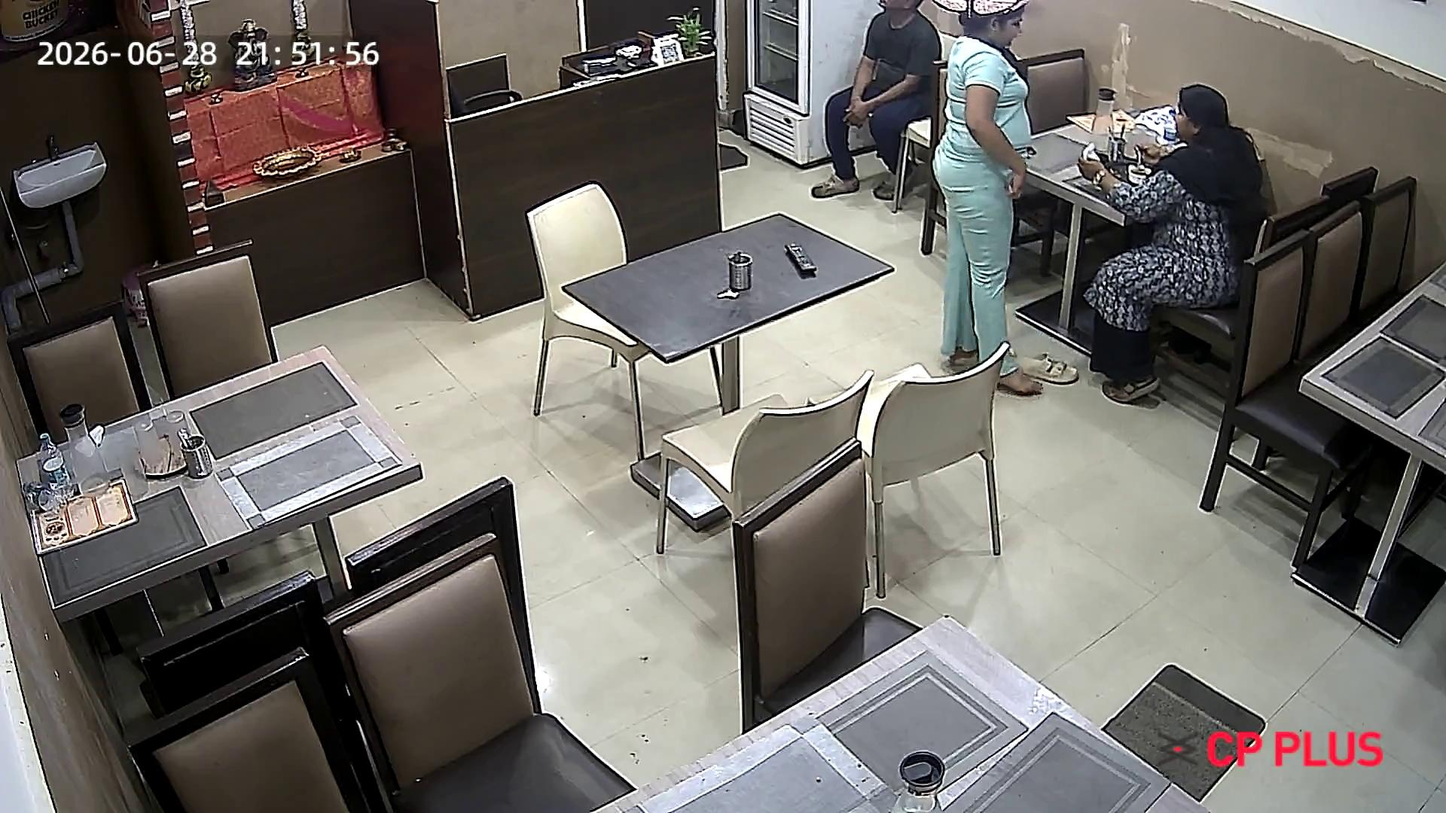clean: (559, 612, 1168, 813), (563, 211, 895, 364), (1336, 277, 1446, 451)
dirty: (13, 339, 425, 611)
occupied: (1000, 96, 1299, 239)
